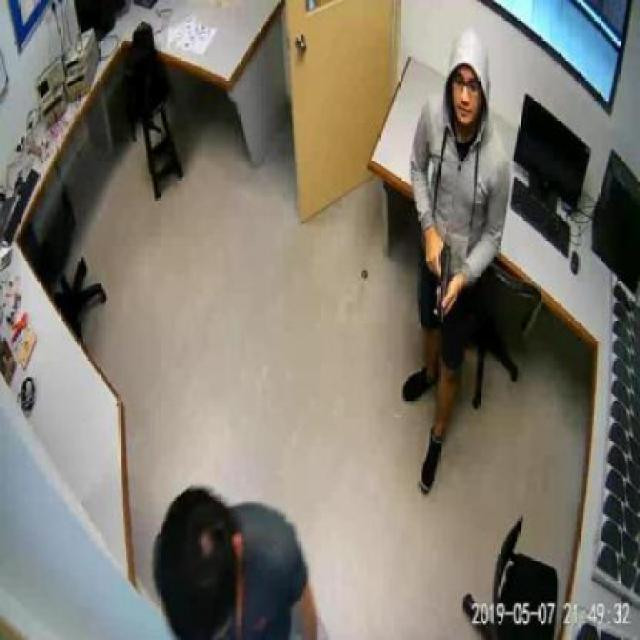gun: (422, 238, 450, 320)
